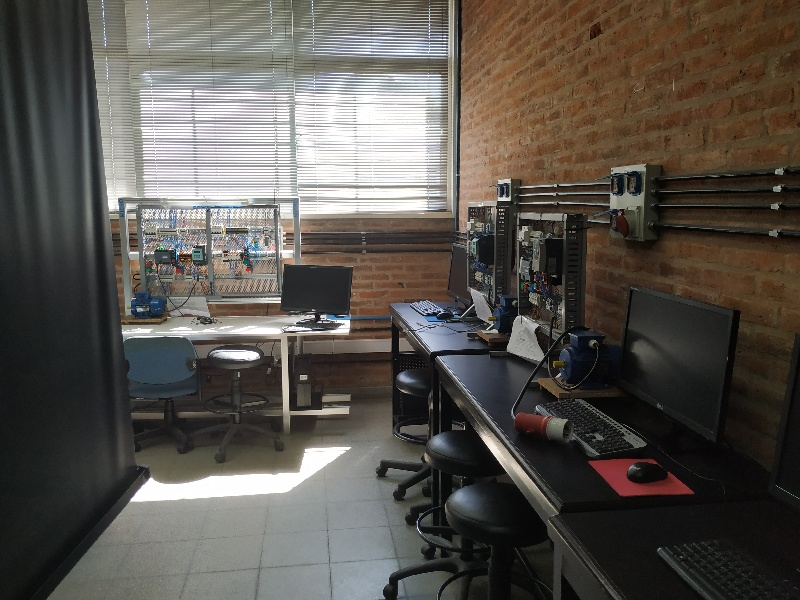Tablero 2: (141, 206, 279, 300)
